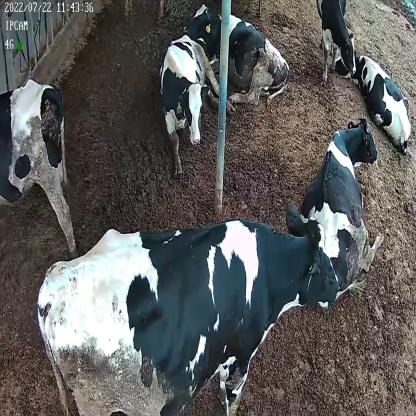cow: (38, 194, 341, 416), (299, 116, 386, 299), (182, 0, 292, 106), (157, 32, 234, 168), (335, 49, 412, 159), (316, 0, 357, 89)
